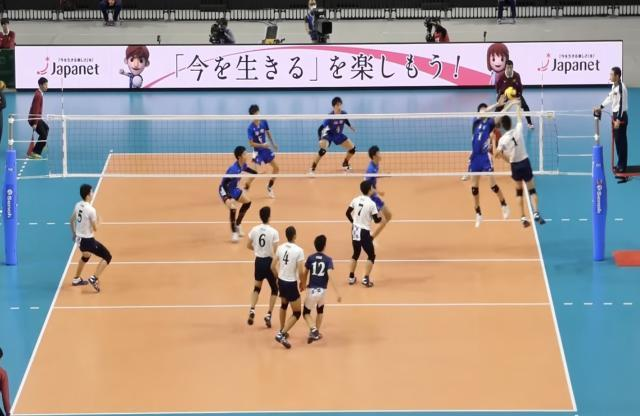spike: (482, 83, 549, 234)
